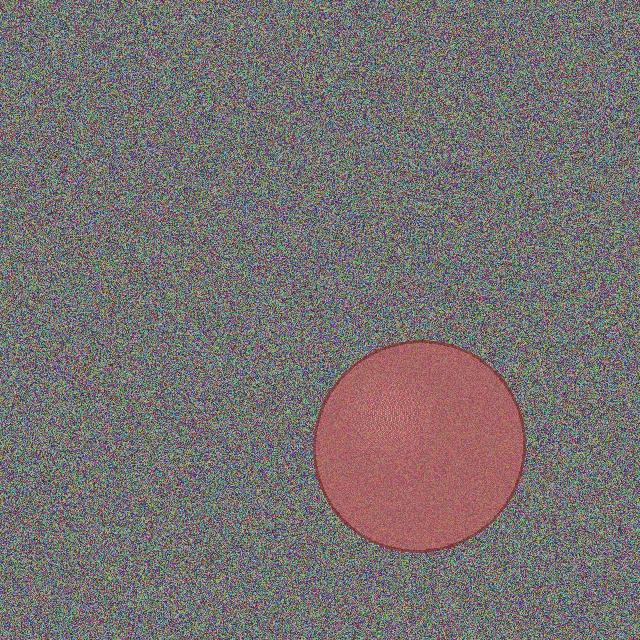lens: (314, 341, 524, 551)
